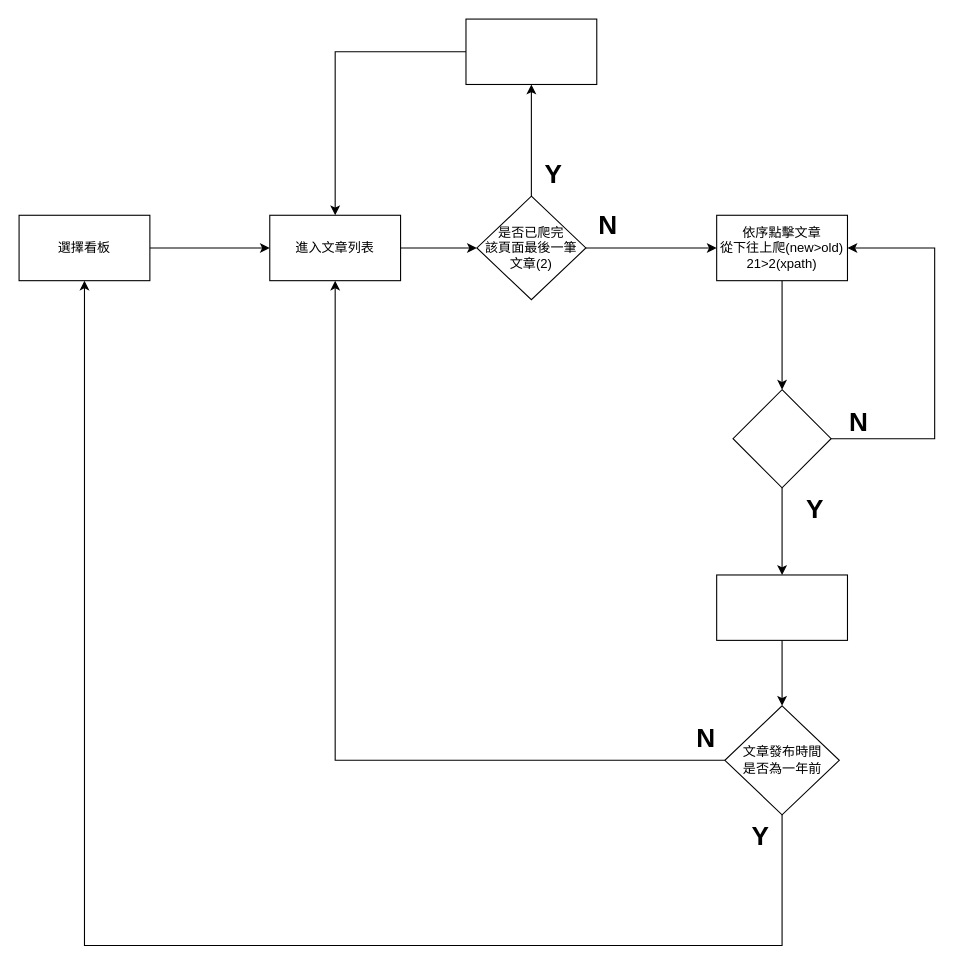
This 962x973 diagram has some shape labels left out. The centre of each missing label's shape, as x and y in pixels:
按上頁 找更舊文章: (531,51)
文章是否存在: (781,438)
進入文章頁面 爬取post欄位，comment欄位資料，同步新增log: (781,607)
